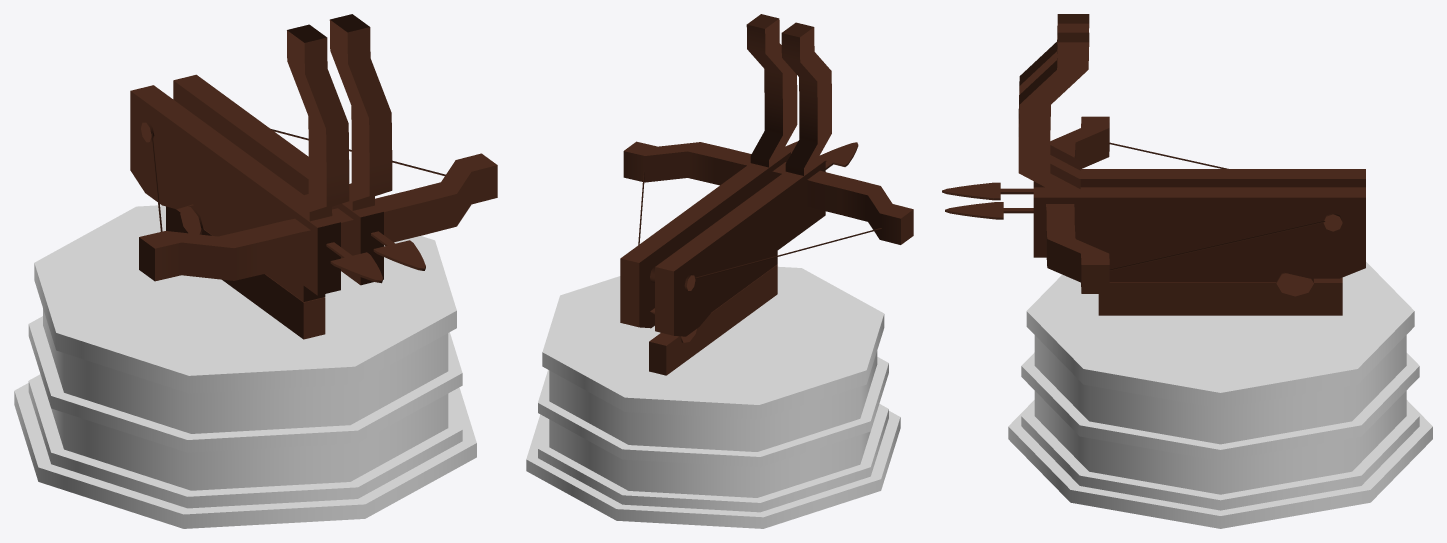
Rendered from darkness_tower_arrow2.FBX.
3 views of the same model, side by side, from view 1: azimuth 30°, elevation 25°; view 2: azimuth 150°, elevation 25°; view 3: azimuth 270°, elevation 25° (orthographic). The views are drawn at different scales.
Parts seen in each view (by area): view 1: platform_bow2, bow2; view 2: platform_bow2, bow2; view 3: platform_bow2, bow2.
Part boxes in pixels (left/top/right/bottom): platform_bow2: left=14, top=205, right=476, bottom=528; bow2: left=130, top=14, right=497, bottom=339; platform_bow2: left=526, top=266, right=900, bottom=528; bow2: left=620, top=14, right=913, bottom=375; platform_bow2: left=1008, top=262, right=1432, bottom=528; bow2: left=942, top=14, right=1365, bottom=315.
Size of the model in its own units: 9 by 9.61 by 10.4.
